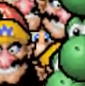luigi: (24, 30, 54, 62)
mario: (36, 0, 74, 40), (0, 2, 28, 28)
wario: (0, 24, 34, 86), (57, 16, 85, 80), (34, 43, 72, 82), (0, 0, 40, 29)
yoshi: (46, 49, 80, 83)
